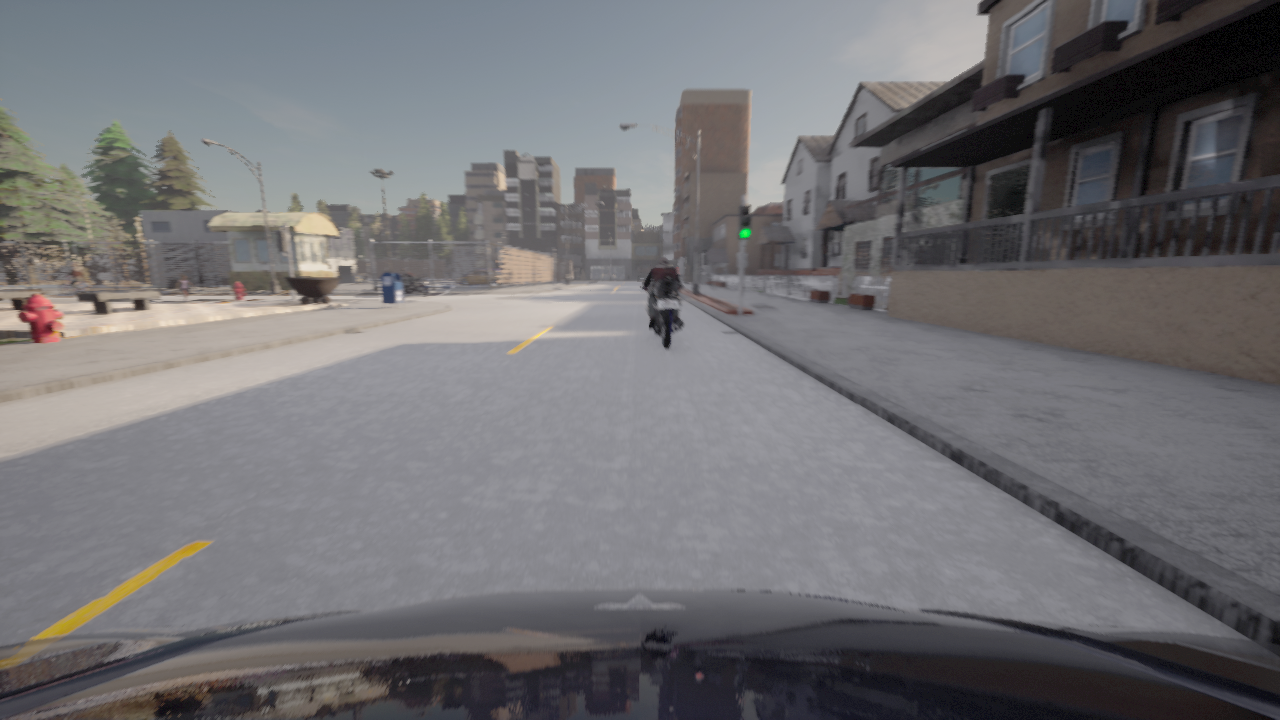cyclist: (0, 588, 1279, 719), (639, 275, 684, 349), (462, 268, 508, 284), (457, 270, 505, 285), (59, 275, 91, 295), (402, 274, 427, 295), (496, 267, 517, 283), (528, 269, 544, 281), (520, 272, 532, 282), (536, 280, 538, 281)
pedestrian: (177, 275, 193, 301)
